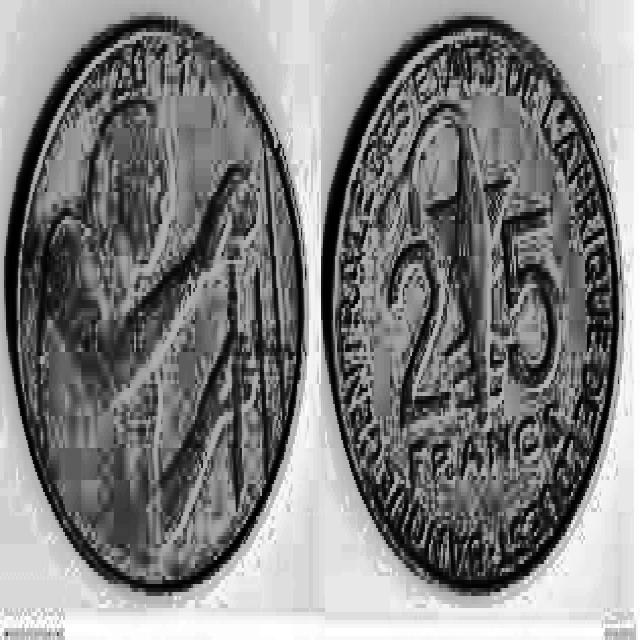juroom derem: (331, 22, 623, 586), (15, 22, 304, 586)
